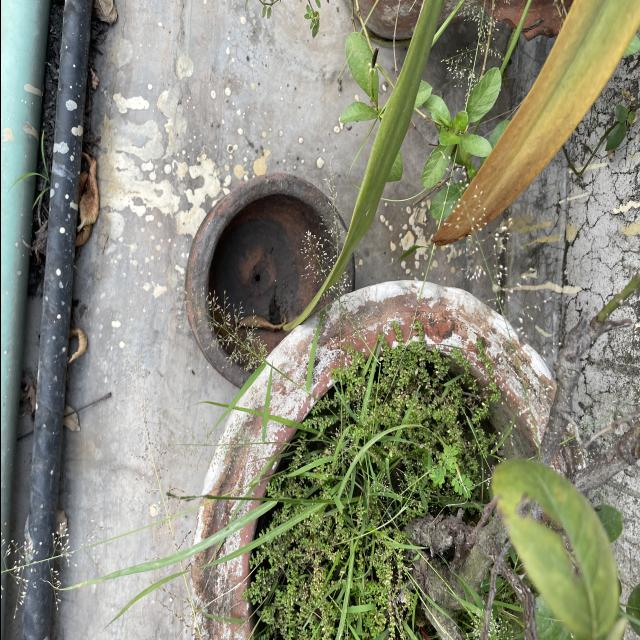Breeding Place: (201, 282, 599, 640), (188, 175, 354, 388)
